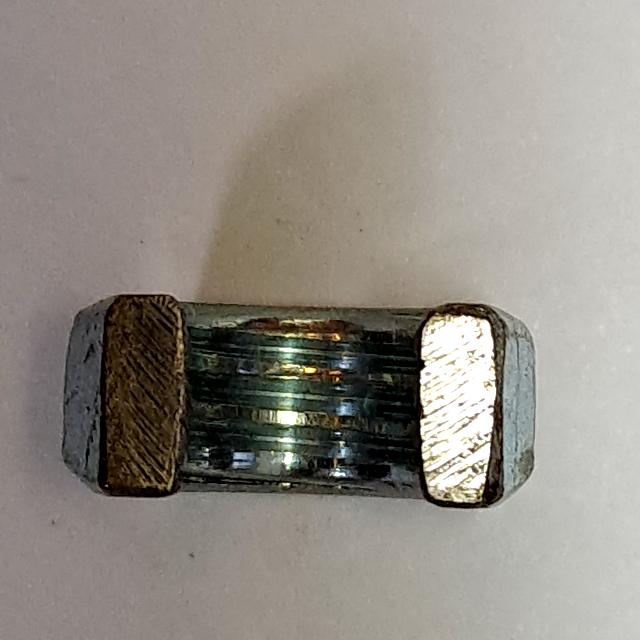Side-Fracture: (45, 269, 549, 536)
